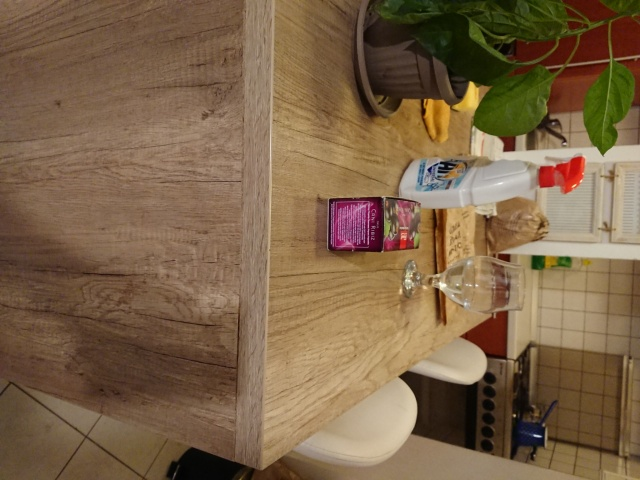Franck Black Currant Tea 60g: (323, 194, 424, 255)
